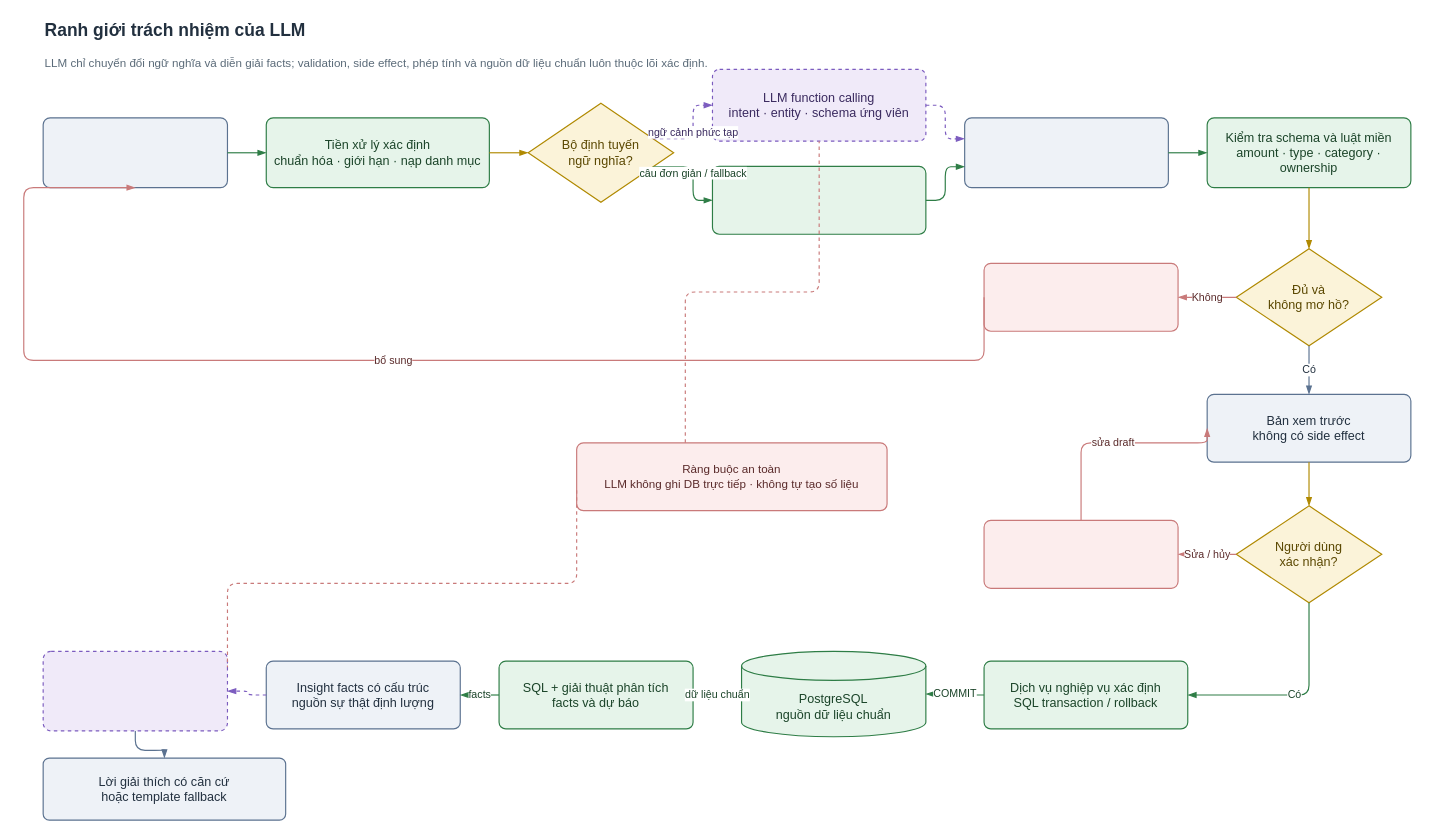
The diagram is 1429 pixels wide and 837 high, and some of its shapes have lost their labels. The shapes that lost their labels are listed below. From the top down, each one's box as (x1, y1, x2, y2) in pixels, then its label:
(42, 117, 228, 188): Đầu vào tự nhiên text · OCR text · transcript
(964, 117, 1168, 188): Lệnh có kiểu transaction · goal · query · export
(711, 165, 926, 234): Local parser / rules baseline + fallback
(983, 262, 1178, 331): Hỏi làm rõ nhiều lượt state có TTL
(983, 519, 1178, 588): Sửa / hủy không ghi dữ liệu
(42, 650, 228, 731): LLM narrator + persona chỉ diễn giải facts
